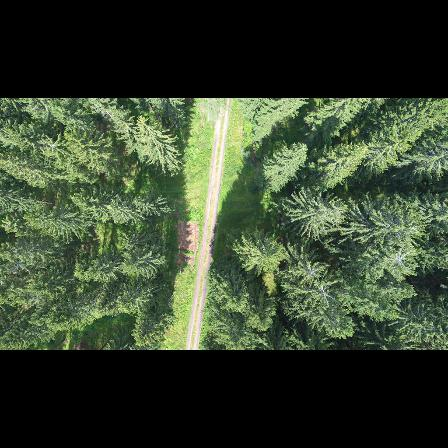Sick: (311, 274, 341, 308), (384, 244, 413, 274), (299, 257, 326, 286)
